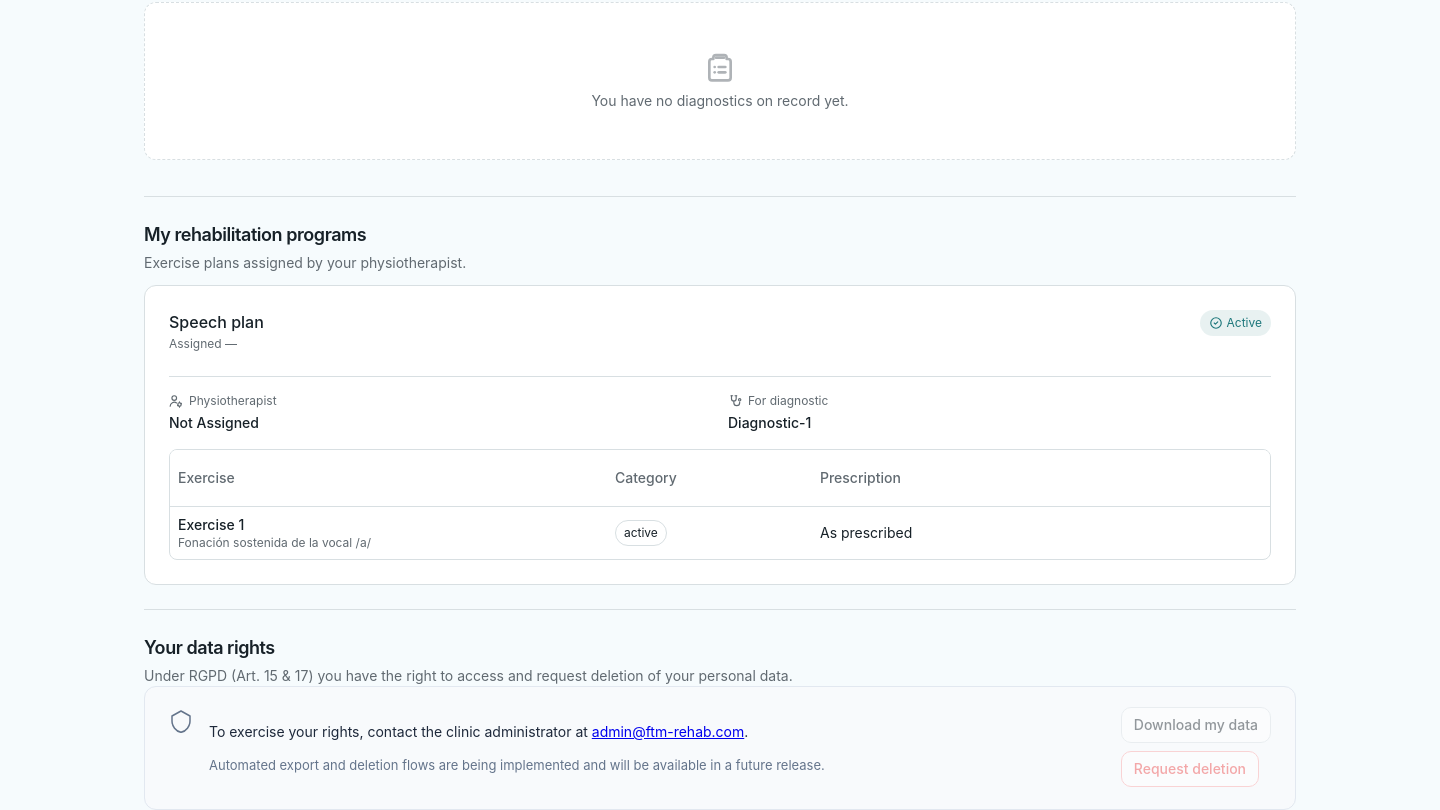
it: UC-05 patient recording navigation › opens the recording workspace from a rehabilitation program
(page scrolled)
Click the link with aria-label "speech plan: view exercises" at (720, 435), box top-left (144, 285), bottom-right (1296, 585)
(page scrolled)
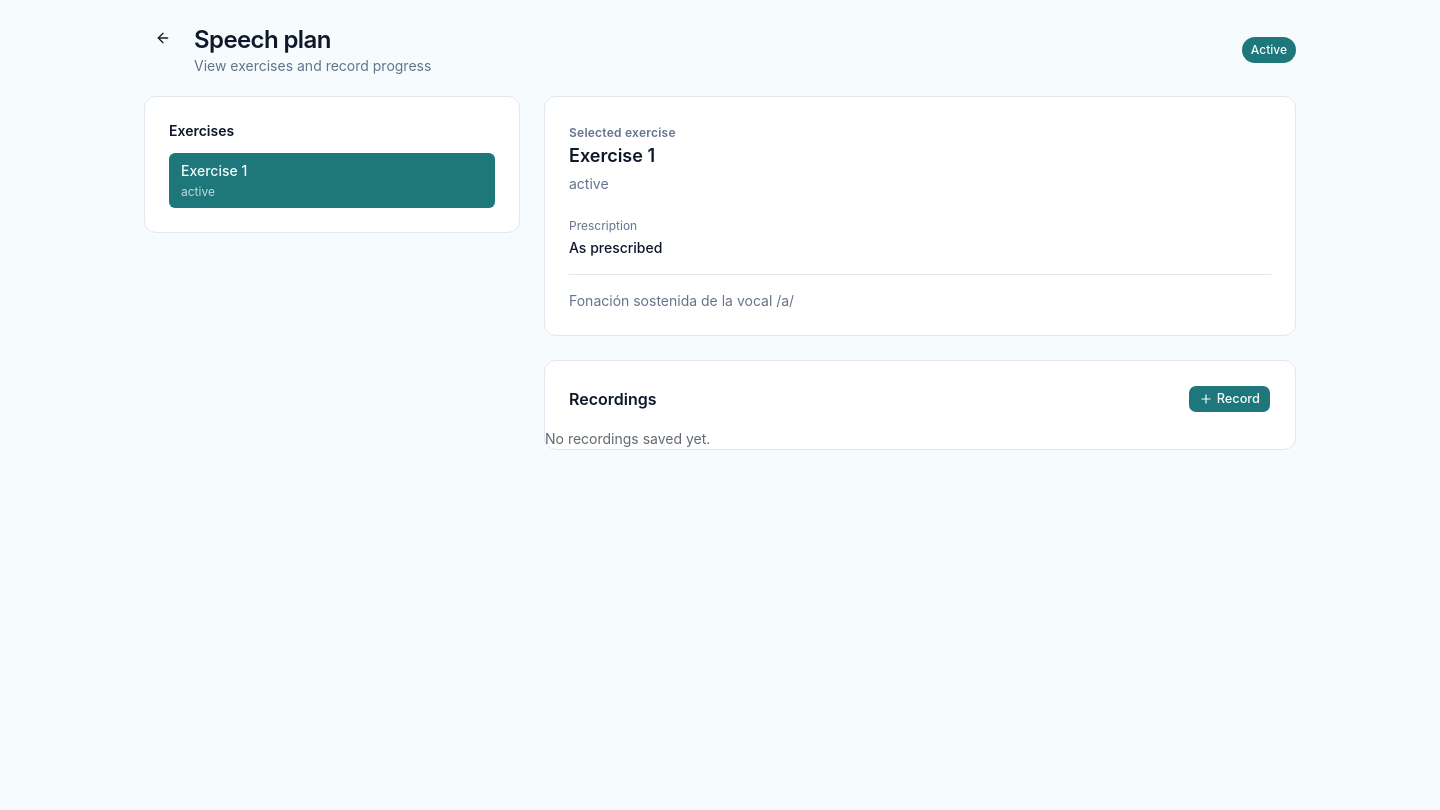
Expected: the heading "Speech plan" is shown, top-left (194, 25), bottom-right (331, 54)
Result: the text "View exercises and record progress" is shown at top-left (194, 57), bottom-right (431, 74)
